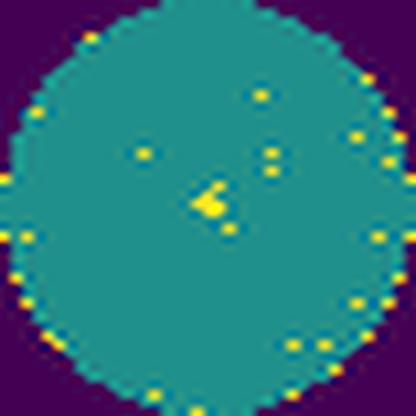Center: (192, 185, 227, 218)
